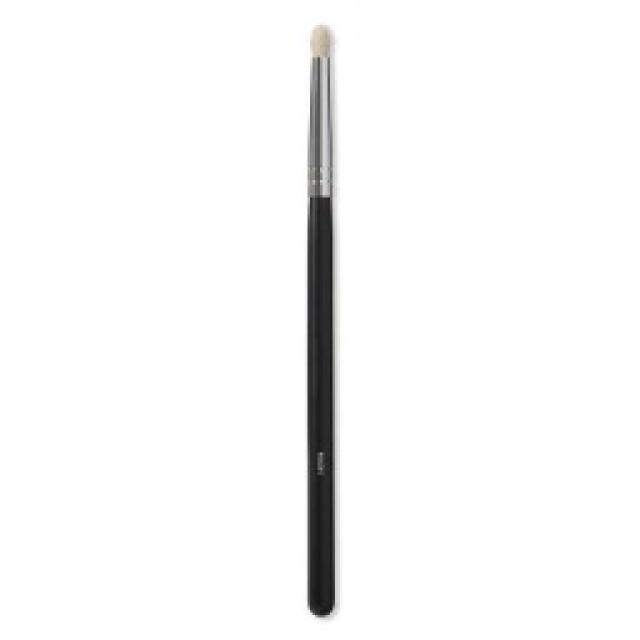pencil: (300, 20, 340, 618)
